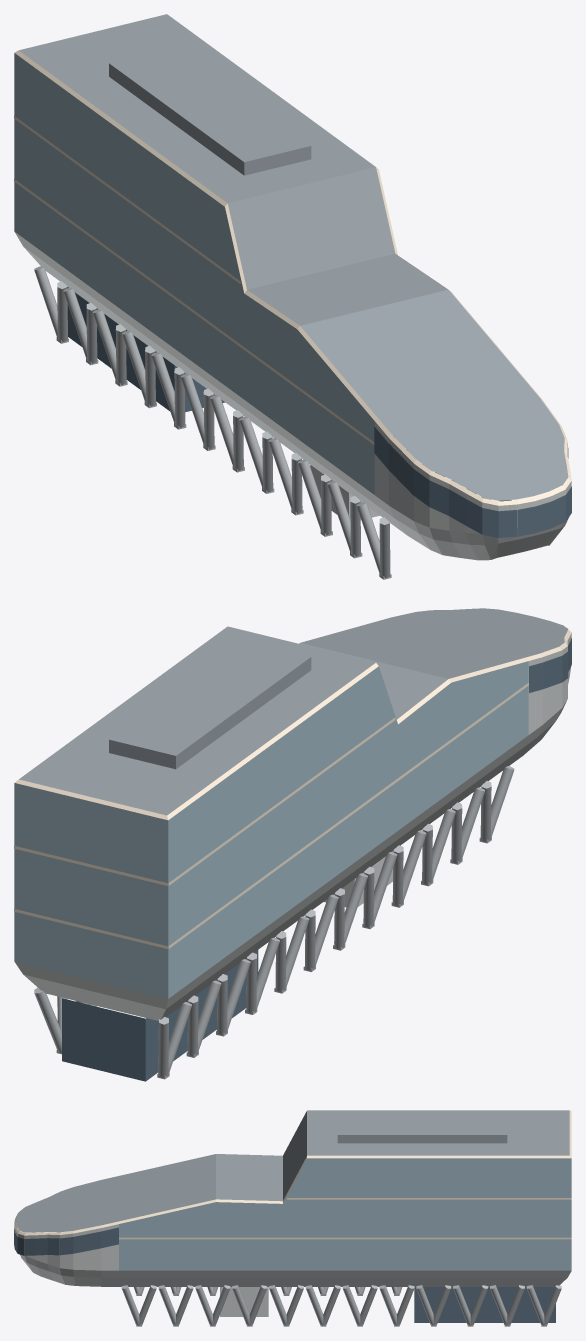
The model's file is amsterdam-ing-house.glb.
3 renders of one model, top to bottom at view 1: azimuth 30°, elevation 25°; view 2: azimuth 150°, elevation 25°; view 3: azimuth 270°, elevation 25°, orthographic. The views are drawn at different scales.
Parts seen in each view (by area): view 1: ING House; view 2: ING House; view 3: ING House.
Boxes of the visible parts, bbox=[...] form: ING House: bbox=[14, 14, 571, 579]; ING House: bbox=[14, 608, 571, 1081]; ING House: bbox=[14, 1110, 571, 1326].
Bounding box in the file's own units: 27.7 × 50.6 × 138.
